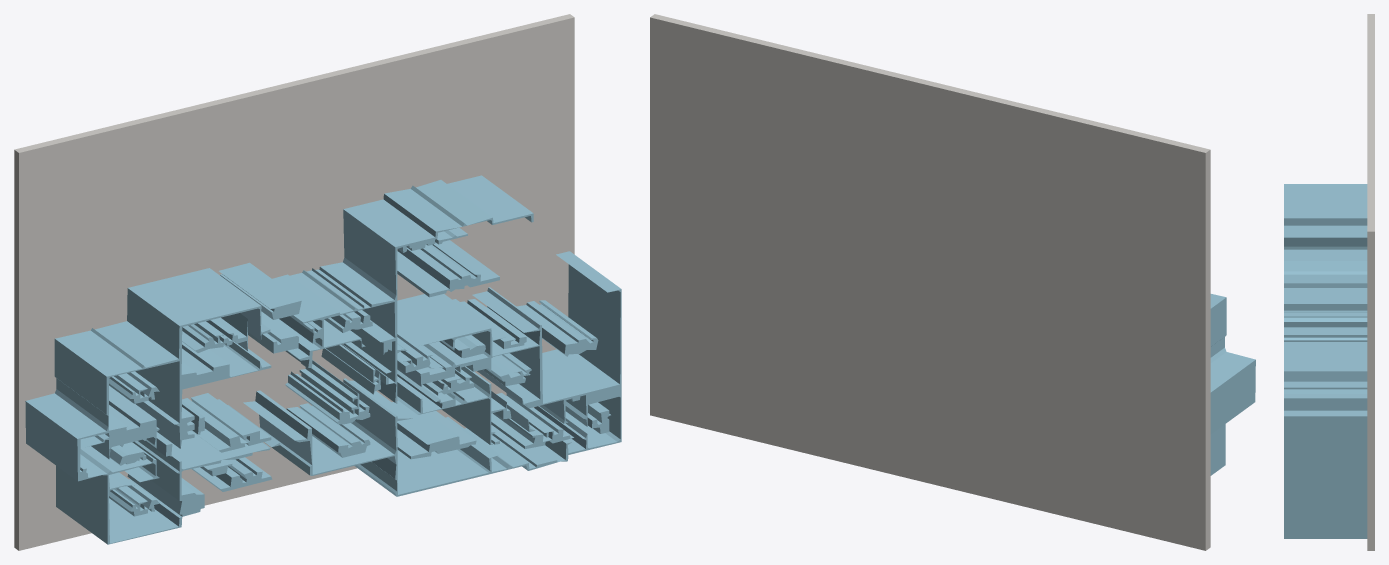
3 views of the same model, side by side, from view 1: azimuth 30°, elevation 25°; view 2: azimuth 150°, elevation 25°; view 3: azimuth 270°, elevation 25° (orthographic). The views are drawn at different scales.
Parts seen in each view (by area): view 1: world; view 2: world; view 3: world.
Boxes of the visible parts, box(x1,y1,x2,y2) form: world: box(14, 14, 621, 550); world: box(650, 14, 1255, 550); world: box(1284, 14, 1374, 550).
Size of the model in its own units: 10.23 by 7 by 1.81.
